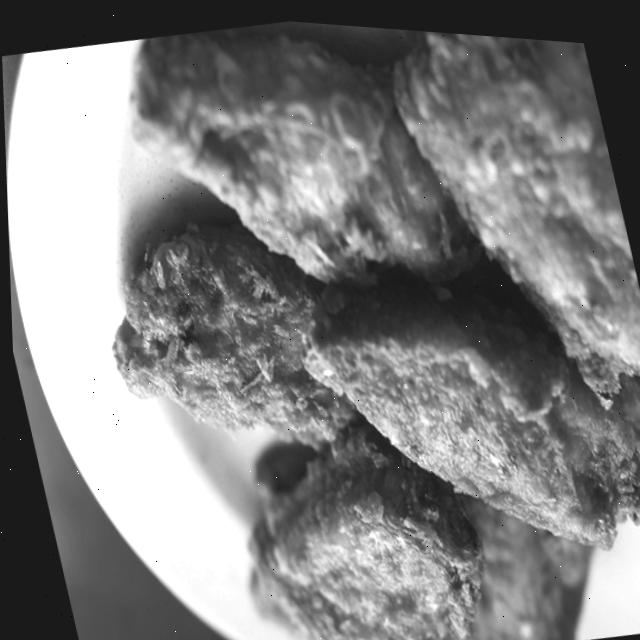鸡肉料理 含炸鸡: (8, 0, 640, 640)
